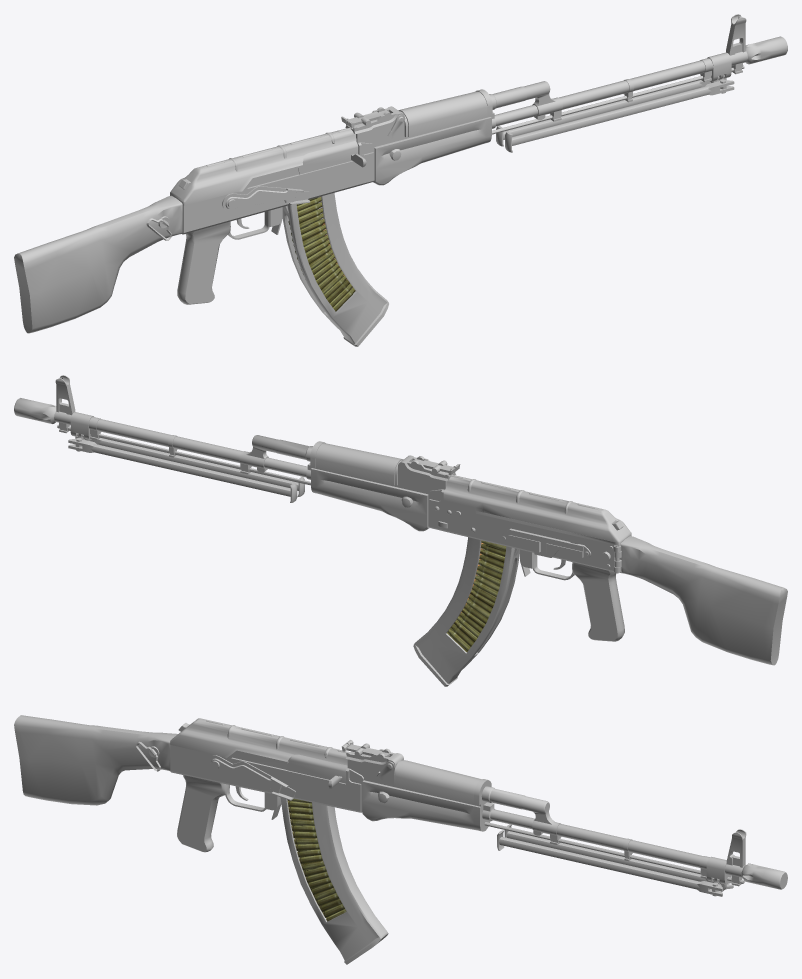
The model's file is RPK-M.FBX.
The picture shows the model from 3 angles, top to bottom: view 1: azimuth 30°, elevation 25°; view 2: azimuth 150°, elevation 25°; view 3: azimuth 330°, elevation 25°; orthographic projection. The views are drawn at different scales.
Visible parts, largest first — view 1: SMDImport05, SMDImport, SMDImport04, SMDImport03, SMDImport02, SMDImport01, SMDImport07, SMDImport06; view 2: SMDImport05, SMDImport, SMDImport04, SMDImport03, SMDImport01, SMDImport02; view 3: SMDImport05, SMDImport, SMDImport04, SMDImport03, SMDImport02, SMDImport01, SMDImport07, SMDImport06.
Boxes of the visible parts, bbox=[...] form: SMDImport05: bbox=[14, 16, 739, 333]; SMDImport: bbox=[489, 14, 787, 134]; SMDImport04: bbox=[282, 193, 388, 346]; SMDImport03: bbox=[288, 196, 355, 311]; SMDImport02: bbox=[505, 79, 734, 152]; SMDImport01: bbox=[496, 80, 710, 146]; SMDImport07: bbox=[222, 186, 310, 211]; SMDImport06: bbox=[298, 141, 366, 174]; SMDImport05: bbox=[62, 377, 787, 665]; SMDImport: bbox=[14, 375, 312, 485]; SMDImport04: bbox=[413, 537, 519, 686]; SMDImport03: bbox=[447, 540, 506, 651]; SMDImport01: bbox=[68, 437, 297, 502]; SMDImport02: bbox=[90, 438, 304, 496]; SMDImport05: bbox=[14, 715, 739, 852]; SMDImport: bbox=[481, 786, 787, 891]; SMDImport04: bbox=[280, 797, 388, 964]; SMDImport03: bbox=[287, 798, 346, 921]; SMDImport02: bbox=[497, 830, 722, 896]; SMDImport01: bbox=[504, 824, 733, 889]; SMDImport07: bbox=[208, 755, 295, 800]; SMDImport06: bbox=[287, 754, 347, 788].
Bounding box in the file's own units: 40.57 × 11.21 × 2.8.
